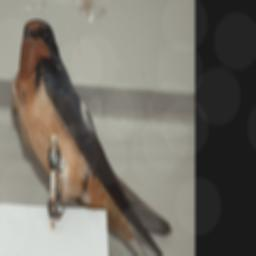Swallow: (16, 18, 191, 256)
